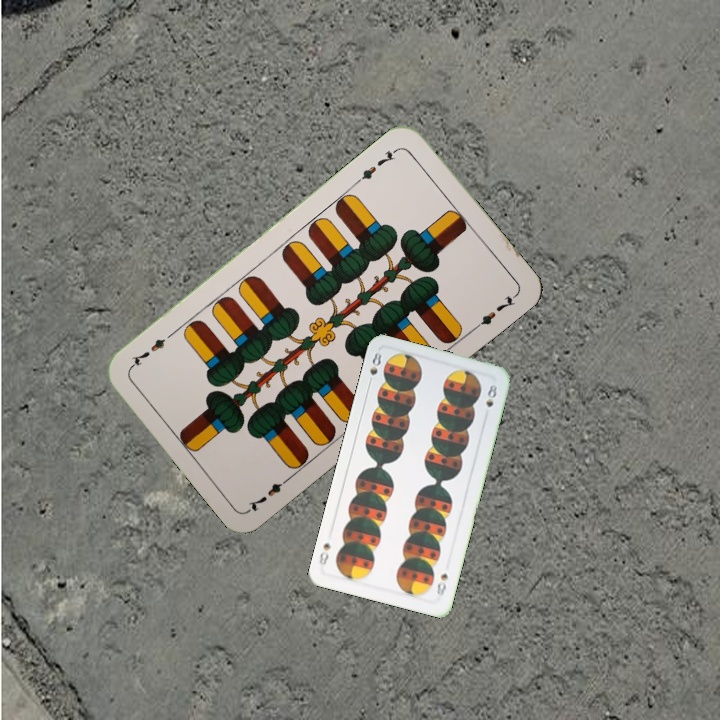E7: (244, 472, 294, 514), (352, 144, 401, 186)
S8: (364, 348, 384, 388), (432, 569, 451, 600)
